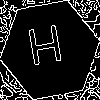H: (25, 25, 67, 75)
